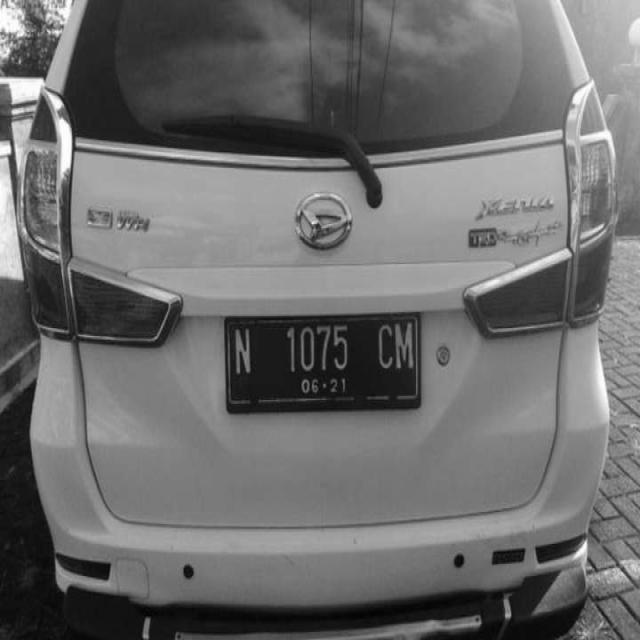plate: (224, 319, 421, 415)
